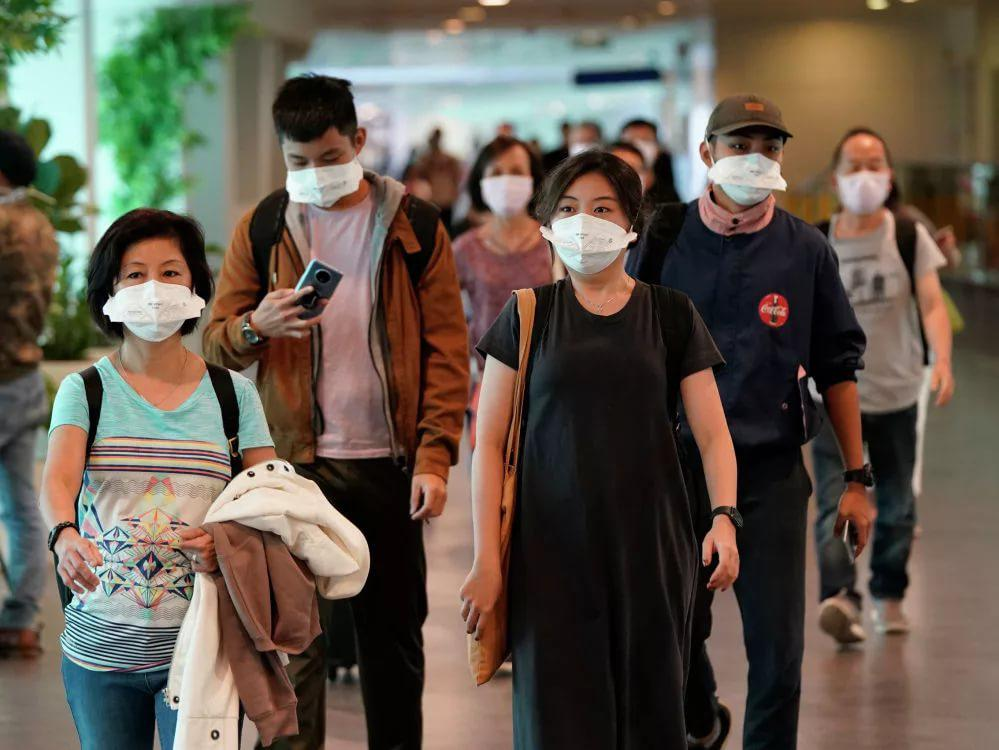mask: (108, 231, 192, 344), (553, 169, 631, 269), (707, 116, 788, 207), (285, 111, 349, 213), (840, 137, 896, 212), (486, 141, 536, 213)
